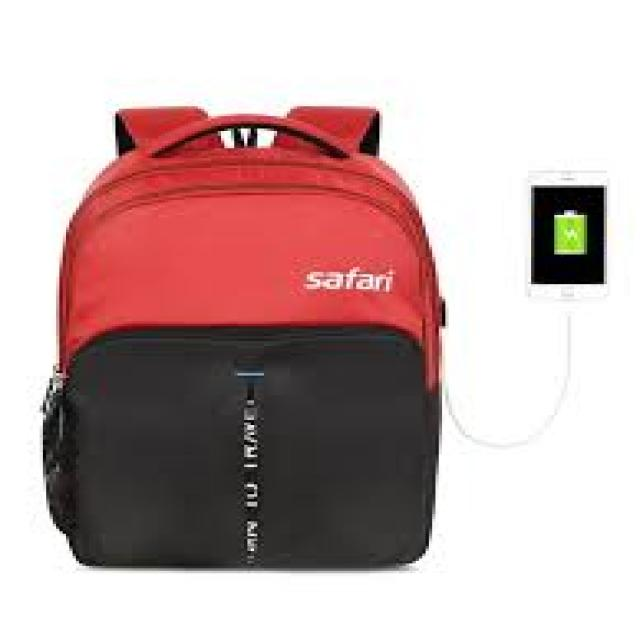backpack: (39, 104, 446, 568)
